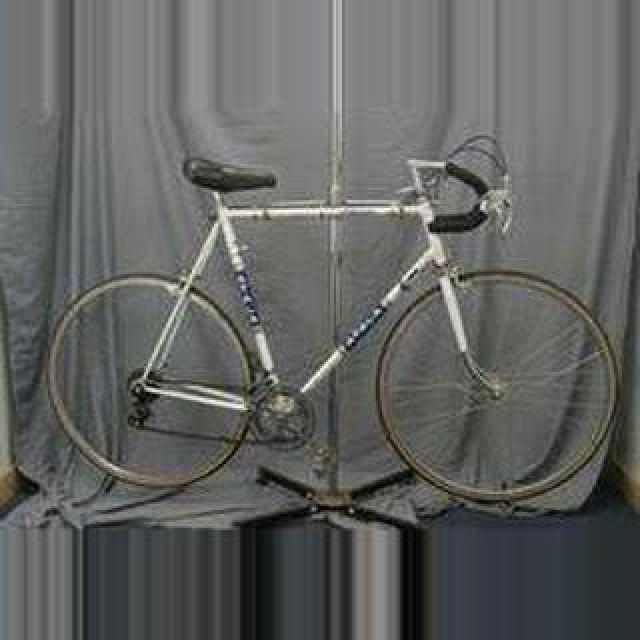Person: (48, 152, 610, 496)
